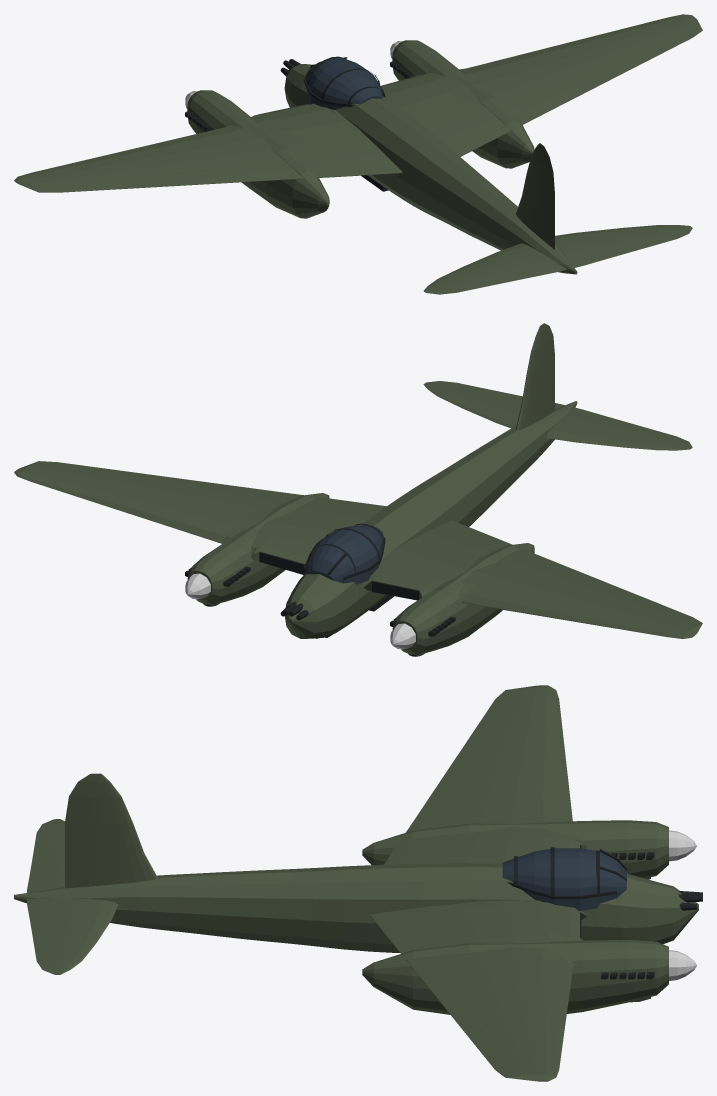
File: mosquito.glb
The picture shows the model from 3 angles, top to bottom: view 1: azimuth 30°, elevation 25°; view 2: azimuth 150°, elevation 25°; view 3: azimuth 270°, elevation 25°; orthographic projection. The views are drawn at different scales.
Parts seen in each view (by area): view 1: Fuselage, Wing L, Wing R, Nacelles, Flap L, Flap R, Cockpit Glass, Stabilizer L, Rudder, Stabilizer R, Aileron L, Aileron R (+4 smaller); view 2: Fuselage, Wing L, Wing R, Nacelles, Cockpit Glass, Stabilizer L, Flap L, Stabilizer R, Flap R, Rudder, Vertical Fin, Elevator L (+7 smaller); view 3: Fuselage, Wing R, Nacelles, Wing L, Cockpit Glass, Rudder, Flap R, Stabilizer R, Flap L, Vertical Fin, Elevator R, Aileron L (+7 smaller).
Boxes of the visible parts, x1,y1,x2,y2 form: Fuselage: [284, 64, 577, 274]; Wing L: [14, 103, 402, 192]; Wing R: [380, 14, 702, 135]; Nacelles: [187, 40, 534, 218]; Flap L: [196, 151, 396, 183]; Flap R: [436, 79, 586, 156]; Cockpit Glass: [305, 57, 383, 109]; Stabilizer L: [424, 243, 549, 292]; Rudder: [532, 147, 554, 249]; Stabilizer R: [555, 225, 691, 254]; Aileron L: [52, 172, 201, 192]; Aileron R: [580, 32, 691, 88]; Fuselage: [285, 401, 577, 638]; Wing L: [362, 520, 702, 638]; Wing R: [14, 461, 371, 564]; Nacelles: [187, 493, 534, 654]; Cockpit Glass: [305, 525, 383, 584]; Stabilizer L: [546, 415, 691, 450]; Flap L: [435, 522, 586, 580]; Stabilizer R: [423, 383, 521, 428]; Flap R: [197, 482, 386, 516]; Rudder: [536, 325, 554, 420]; Vertical Fin: [515, 323, 547, 430]; Elevator L: [565, 407, 692, 447]; Fuselage: [14, 863, 698, 952]; Wing R: [370, 899, 587, 1081]; Nacelles: [362, 820, 668, 1014]; Wing L: [430, 685, 586, 863]; Cockpit Glass: [502, 848, 626, 910]; Rudder: [65, 779, 112, 888]; Flap R: [372, 910, 470, 1001]; Stabilizer R: [52, 898, 117, 974]; Flap L: [384, 777, 470, 864]; Vertical Fin: [82, 773, 157, 884]; Elevator R: [27, 898, 58, 974]; Aileron L: [443, 698, 509, 777].
Bounding box in the file's own units: 16.52 × 3.55 × 12.17.
